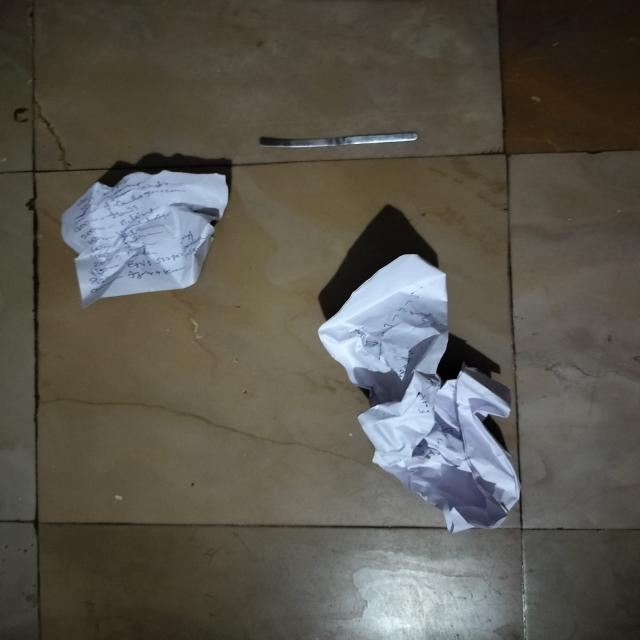dry: (310, 230, 547, 548), (74, 140, 222, 305), (251, 123, 432, 163)
